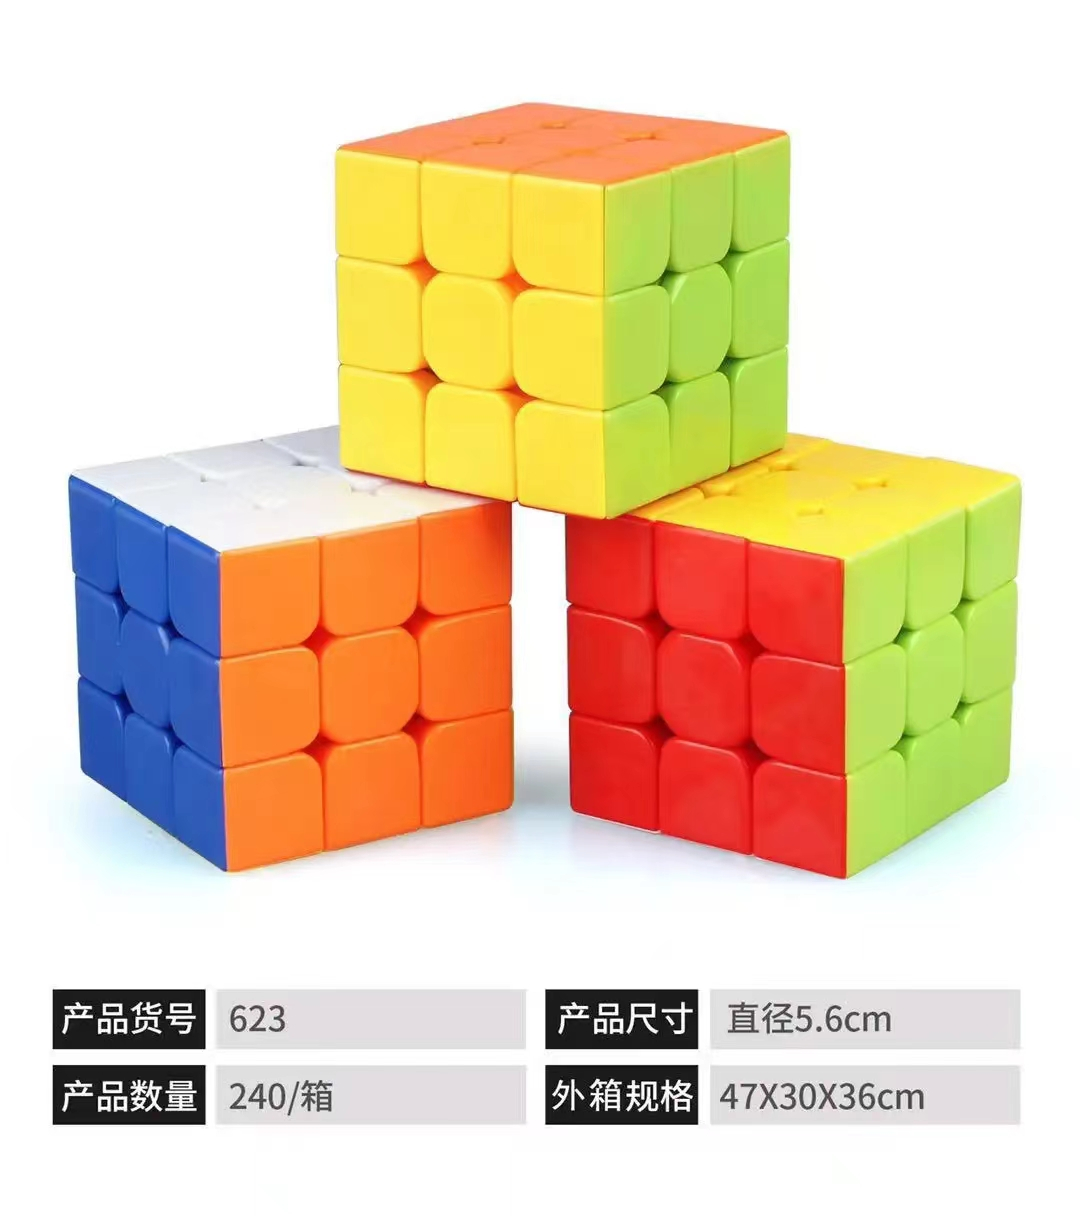cube: (559, 424, 1020, 885), (62, 415, 519, 874), (333, 98, 793, 519)
